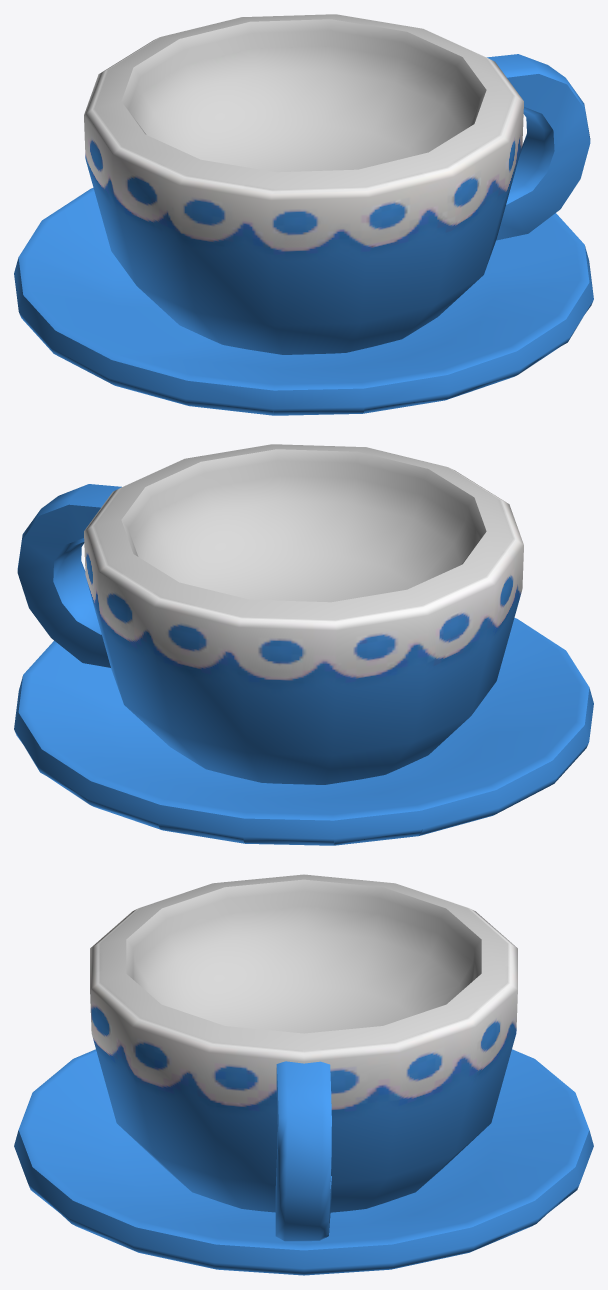
Rendered from 0-cup_blue.fbx.
3 renders of one model, top to bottom at view 1: azimuth 30°, elevation 25°; view 2: azimuth 150°, elevation 25°; view 3: azimuth 270°, elevation 25°, orthographic.
Visible parts, largest first — view 1: 0-cup_blue; view 2: 0-cup_blue; view 3: 0-cup_blue.
Part boxes in pixels (x1,y1,x2,y2): 0-cup_blue: [14, 14, 593, 415]; 0-cup_blue: [14, 444, 593, 845]; 0-cup_blue: [14, 874, 593, 1275].
Bounding box in the file's own units: 90.46 × 37.03 × 86.17.
